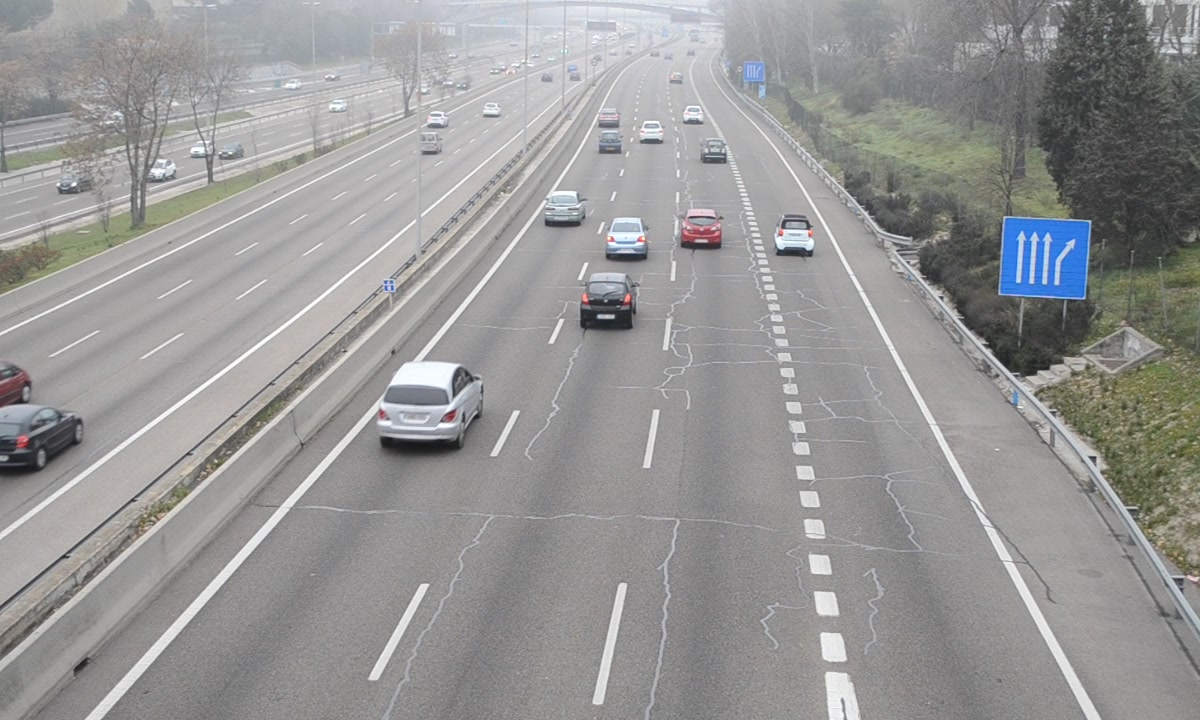car: (372, 362, 483, 442), (580, 271, 640, 332), (605, 217, 650, 262), (681, 208, 725, 251), (775, 214, 816, 257), (543, 189, 588, 227), (700, 138, 728, 165), (639, 118, 666, 144), (597, 131, 623, 155), (596, 107, 621, 128)
